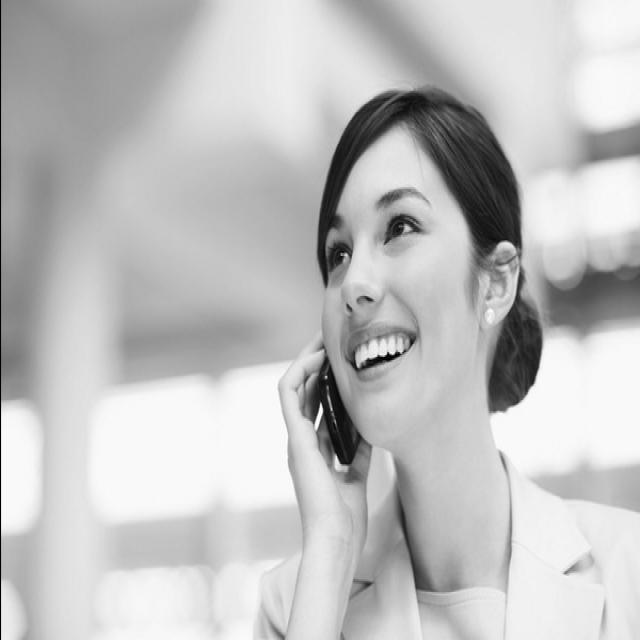phone: (266, 216, 360, 523)
